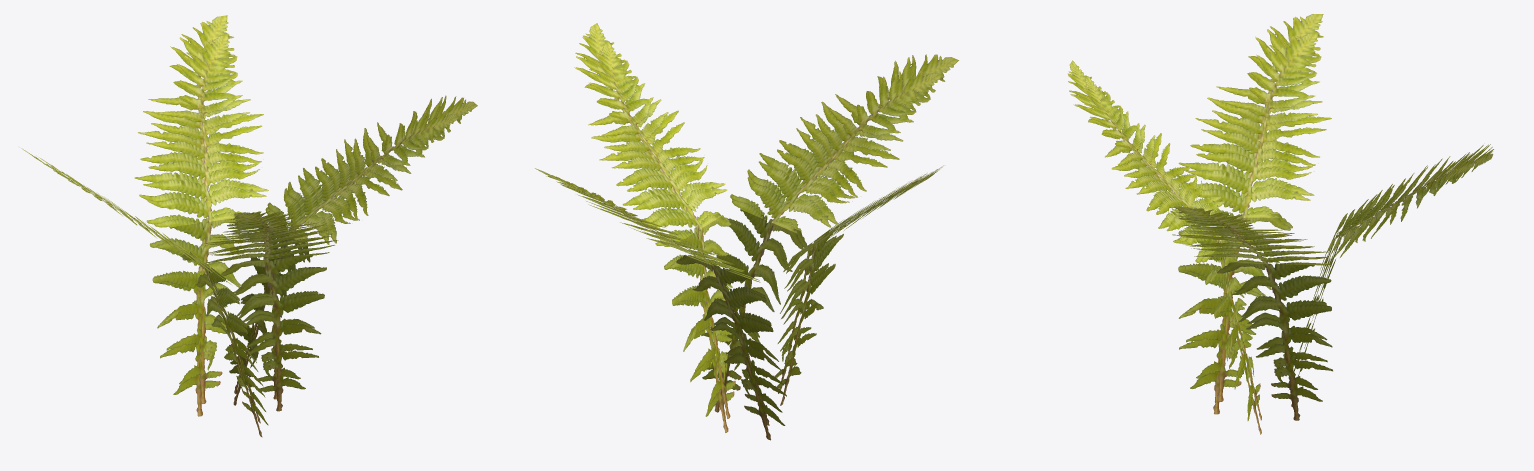
The model's file is Planta6.fbx.
3 renders of one model, left to right at view 1: azimuth 30°, elevation 25°; view 2: azimuth 150°, elevation 25°; view 3: azimuth 270°, elevation 25°, orthographic. The views are drawn at different scales.
Parts seen in each view (by area): view 1: Planta6; view 2: Planta6; view 3: Planta6.
Part boxes in pixels (bbox=[...]): Planta6: bbox=[21, 15, 477, 437]; Planta6: bbox=[535, 23, 958, 440]; Planta6: bbox=[1067, 14, 1493, 434].
Size of the model in its own units: 95.96 by 92.06 by 67.6.
